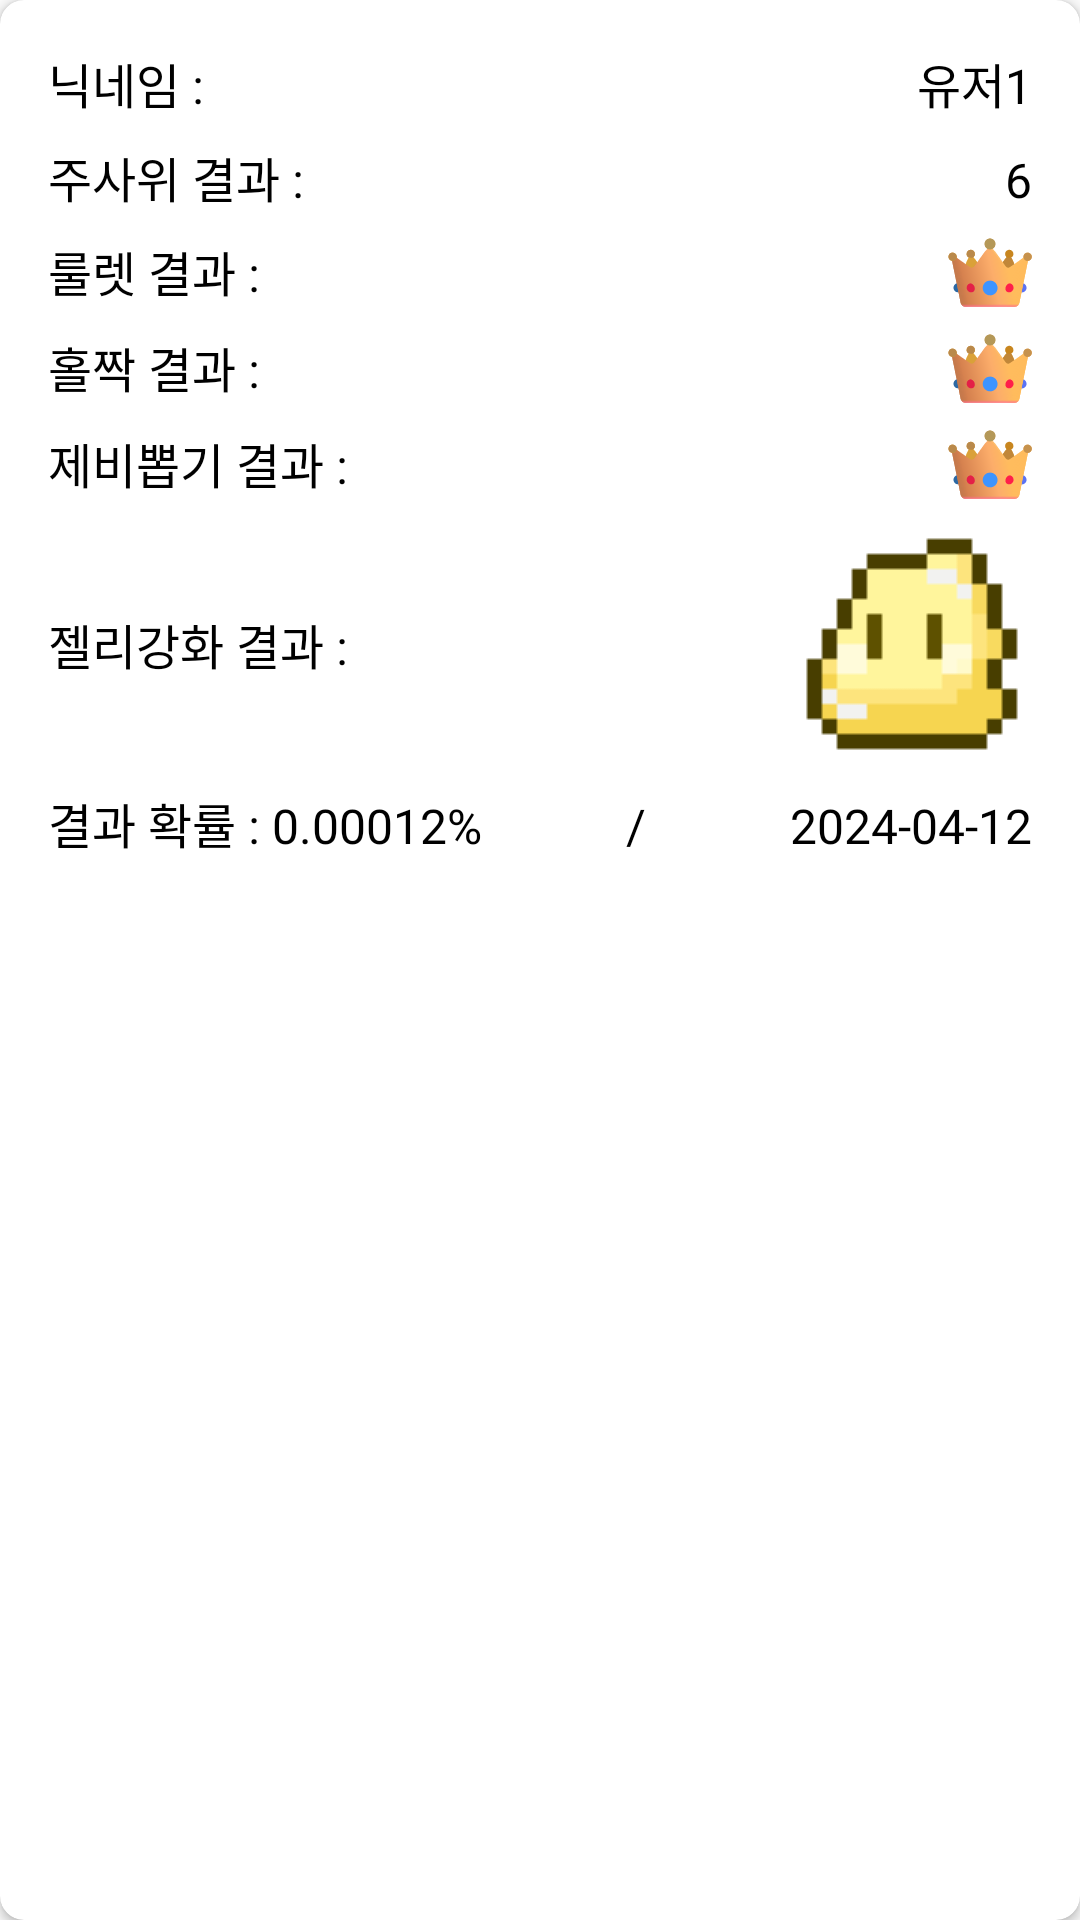

Locate icon controls on the screen. Image size 1080px×1920px, boxes as (x1, y1, x2, y2).
gold main jelly: (806, 538, 1018, 750)
winning: (948, 238, 1032, 307), (948, 334, 1032, 403), (948, 430, 1032, 499)
